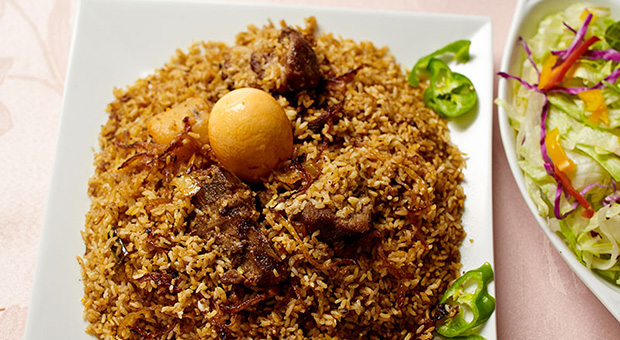tehari: (80, 18, 490, 340)
